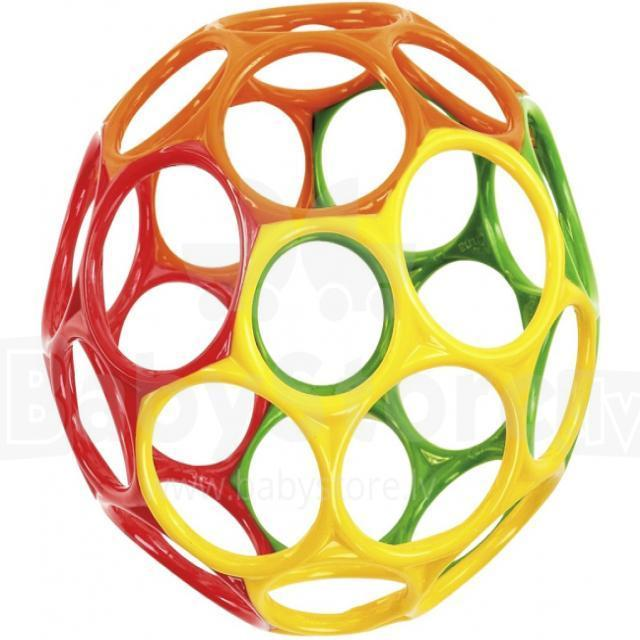hard-toy: (44, 4, 599, 634)
